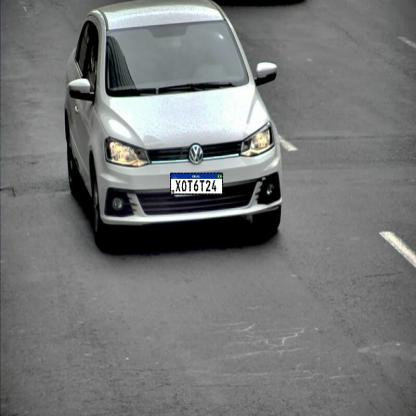PlacaM: (170, 172, 223, 194)
